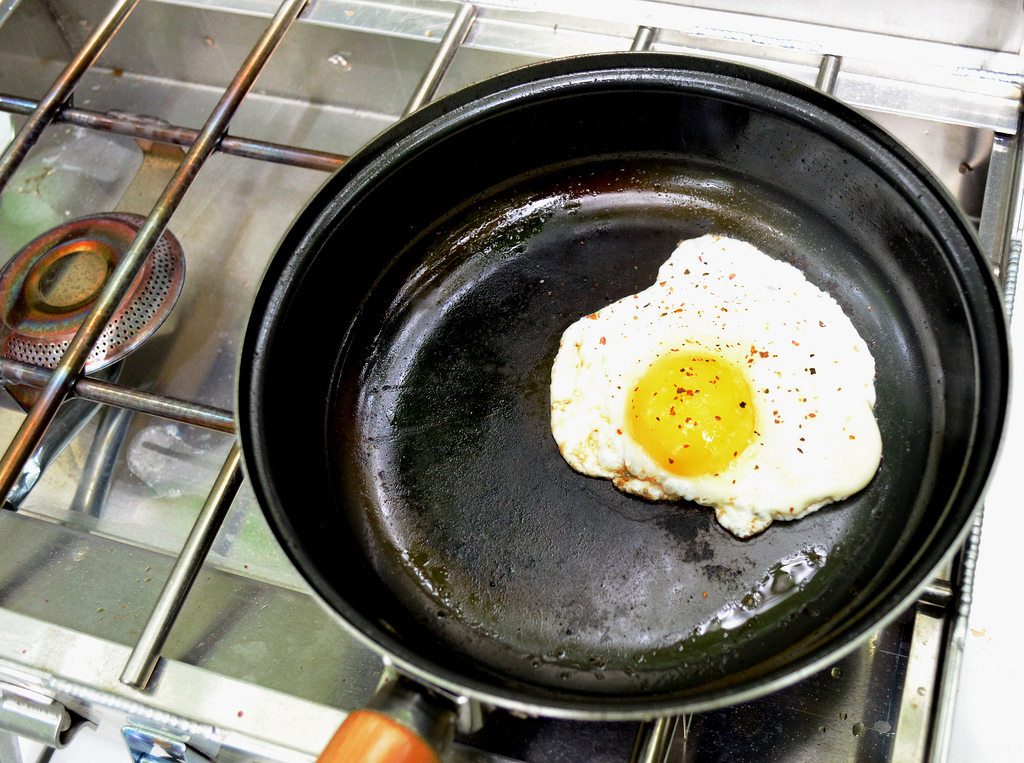fried egg: (568, 283, 857, 483)
